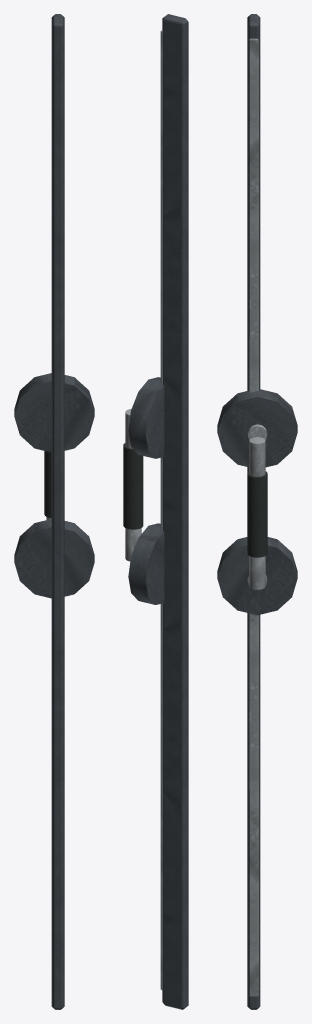
File: curtain_stile.fbx
3 renders of one model, left to right at view 1: azimuth 90°, elevation 25°; view 2: azimuth 150°, elevation 25°; view 3: azimuth 270°, elevation 25°, orthographic.
Parts seen in each view (by area): view 1: SM_curtain_stile; view 2: SM_curtain_stile; view 3: SM_curtain_stile.
Part boxes in pixels (x1,y1,x2,y2): SM_curtain_stile: (14, 14, 94, 1009); SM_curtain_stile: (123, 14, 188, 1009); SM_curtain_stile: (217, 14, 297, 1009).
Size of the model in its own units: 0.0772 by 1.2 by 0.088.
Materials: 5 (5 with a texture image).
